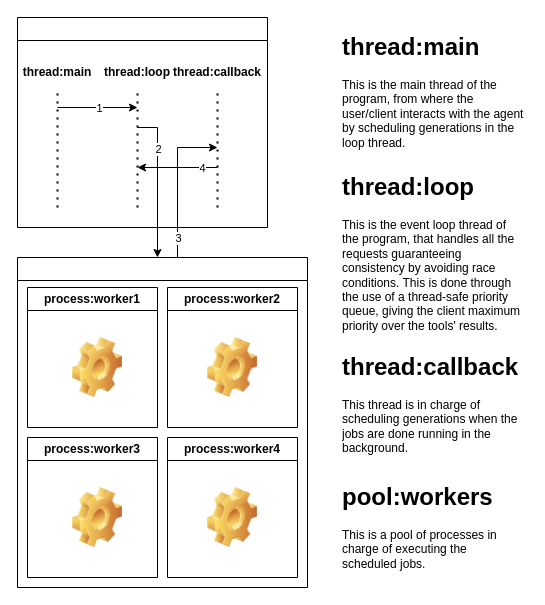
This 545x605 diagram has some shape labels left out. Here are the shapes that lost their labels. From the top down, the box of each, then its label:
(16, 16, 268, 228): process:main
(16, 256, 308, 588): pool:workers
